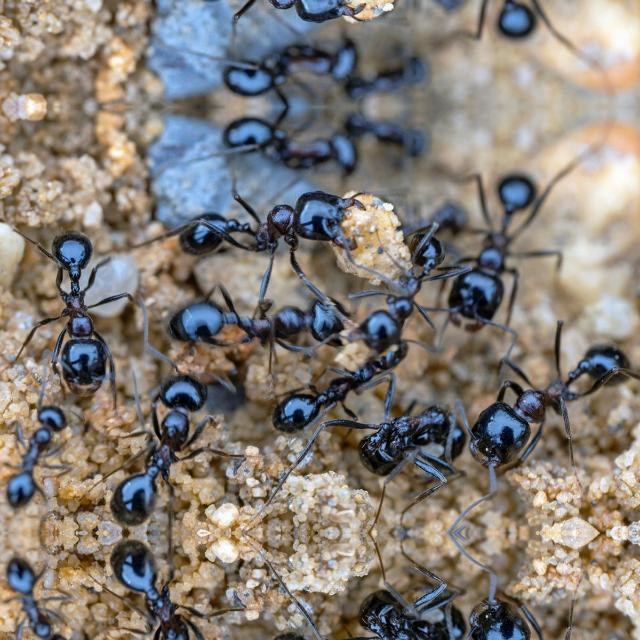Messor: (156, 180, 374, 310), (237, 320, 421, 466), (99, 348, 233, 532), (472, 326, 632, 476), (442, 164, 560, 343), (42, 210, 146, 394), (361, 215, 463, 367), (334, 384, 461, 500), (99, 533, 233, 640), (225, 106, 371, 192), (225, 20, 371, 106), (333, 565, 460, 640), (472, 588, 632, 640), (237, 599, 421, 640), (155, 0, 374, 31), (442, 0, 560, 47), (338, 108, 440, 160), (338, 52, 440, 104)
